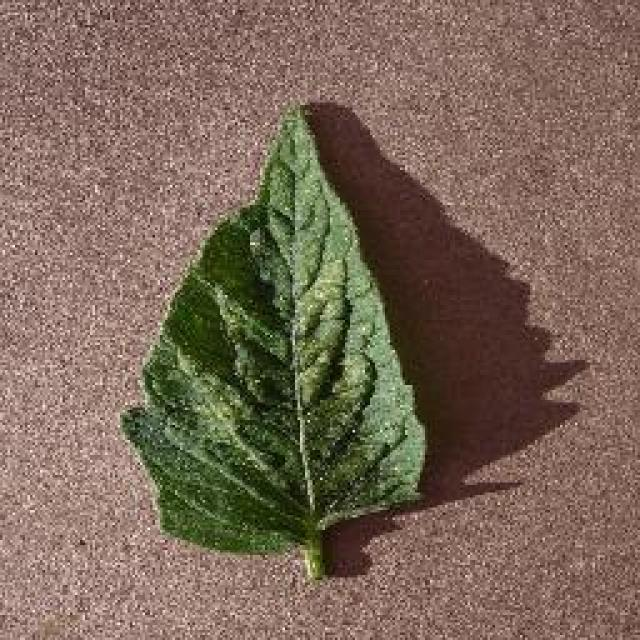Tomato mosaic virus leaf: (115, 101, 433, 554)
